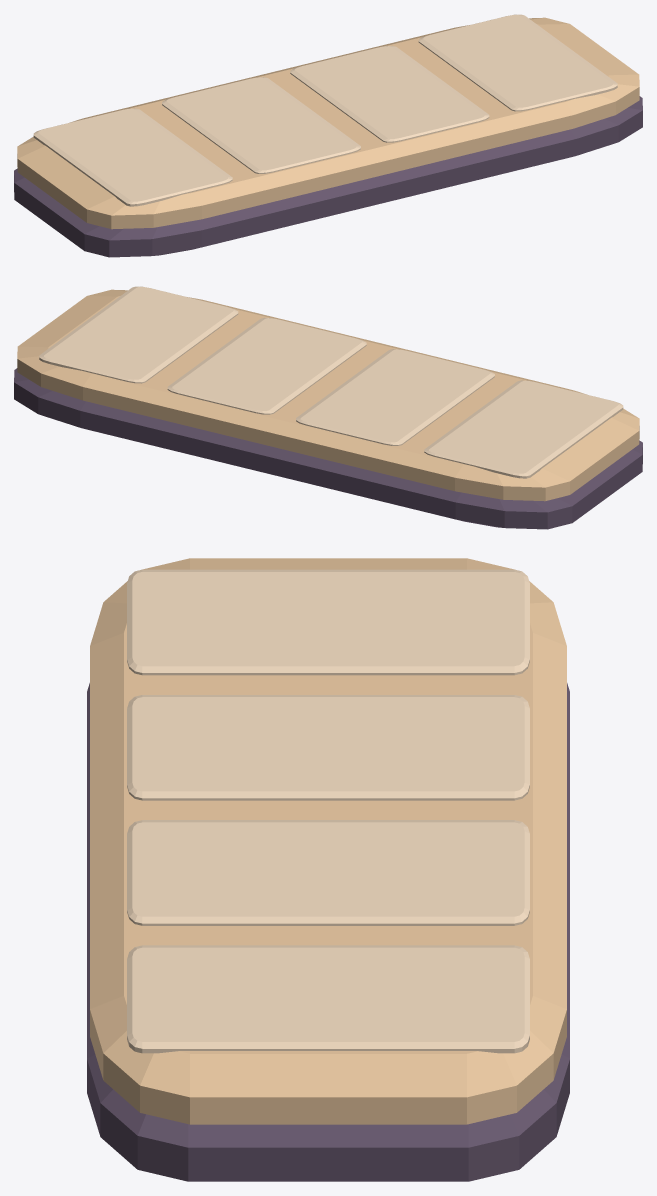
Rendered from sidewalk.glb.
The picture shows the model from 3 angles, top to bottom: view 1: azimuth 30°, elevation 25°; view 2: azimuth 150°, elevation 25°; view 3: azimuth 270°, elevation 25°; orthographic projection. The views are drawn at different scales.
Parts seen in each view (by area): view 1: model; view 2: model; view 3: model.
Boxes of the visible parts, left/top/right/bottom form: model: left=14, top=14, right=642, bottom=257; model: left=14, top=286, right=642, bottom=529; model: left=87, top=558, right=569, bottom=1181.
Size of the model in its own units: 2 by 0.2 by 0.75.
